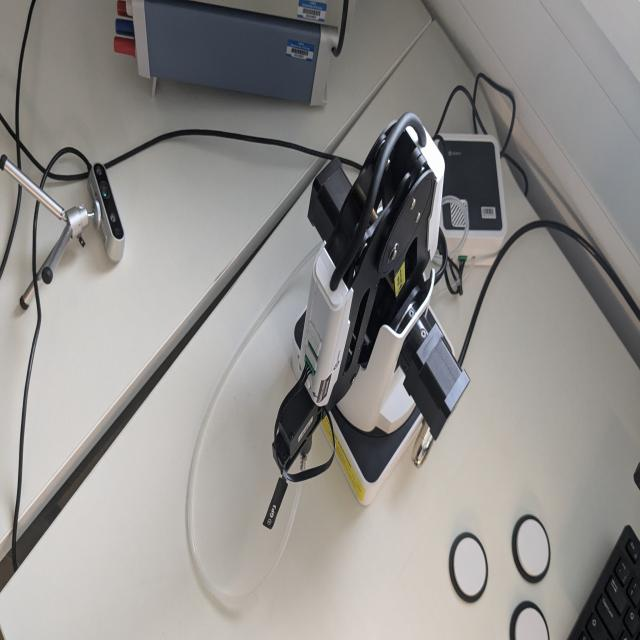Robot-end-effector-HF8z: (266, 389, 318, 496)
